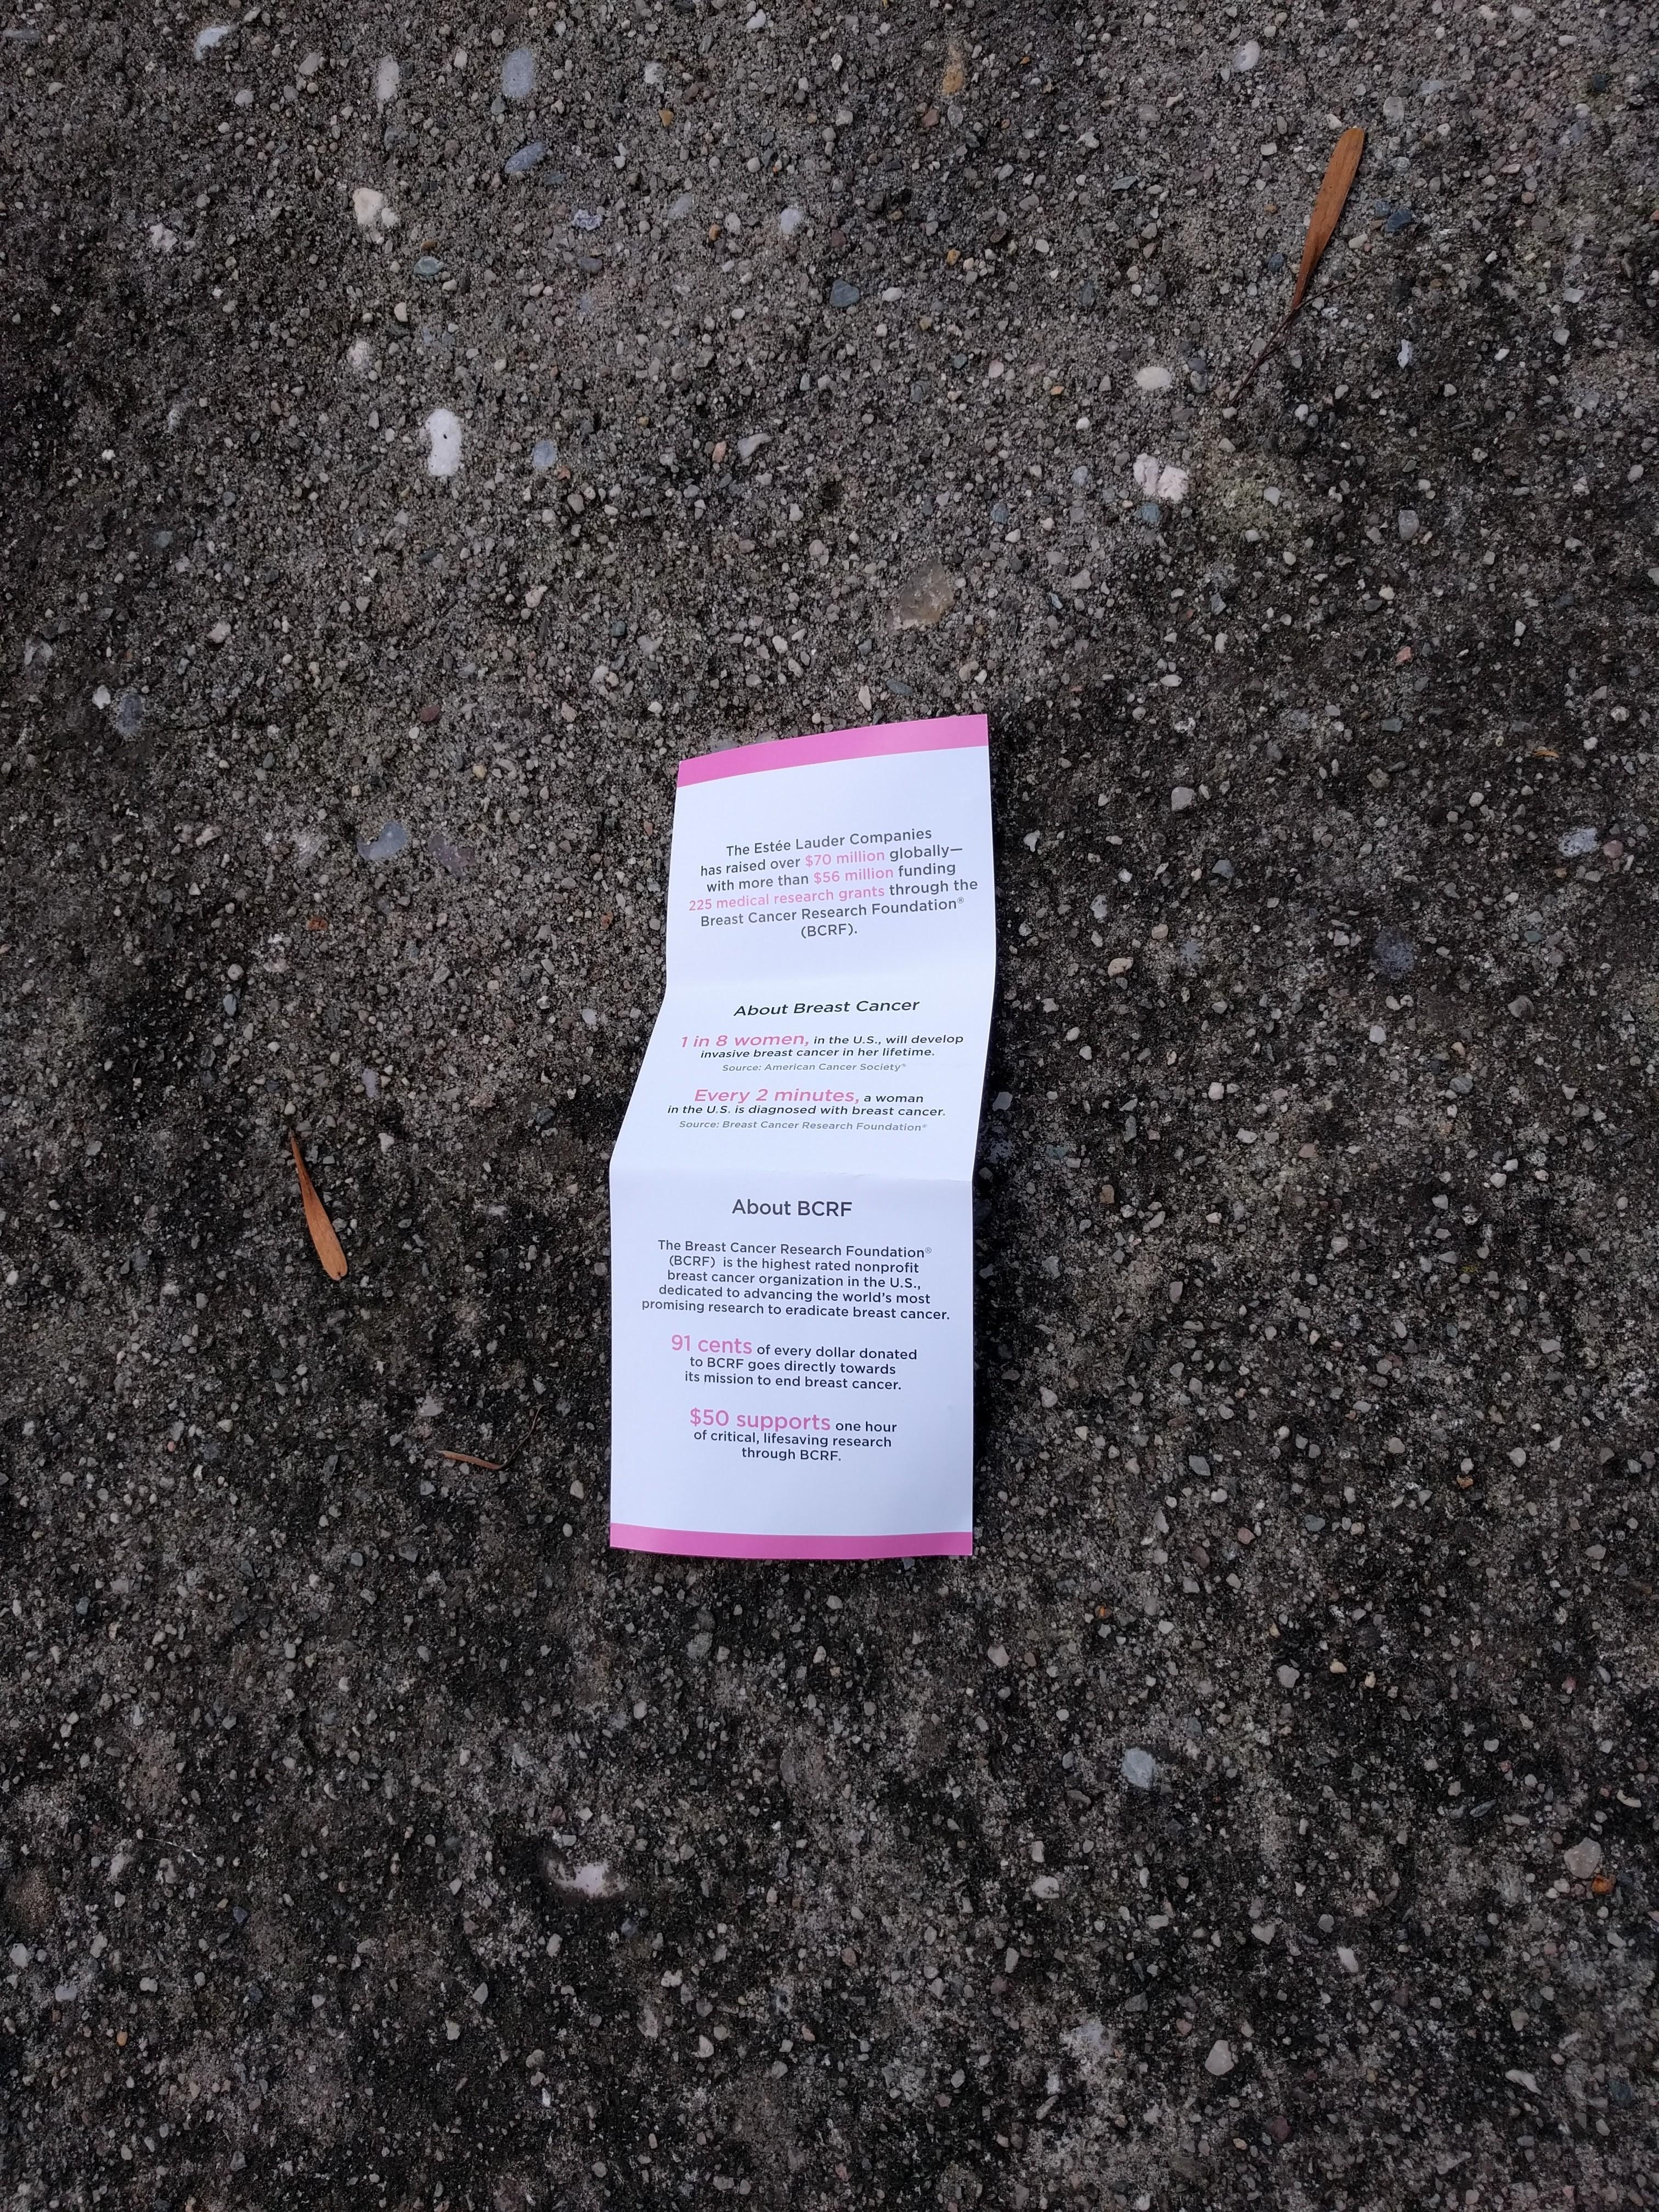paper: (387, 406, 1222, 1688)
